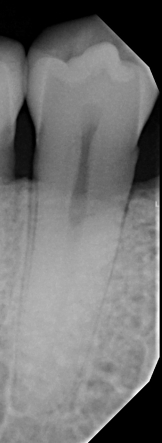tooth: (10, 15, 159, 414)
